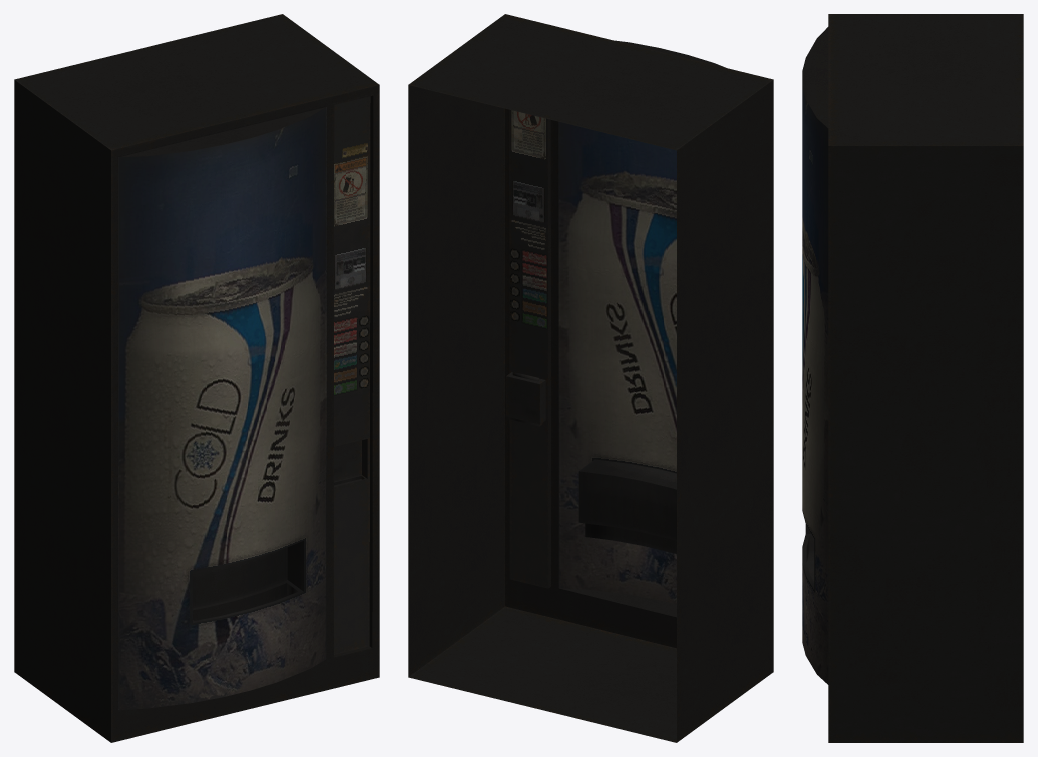
Rendered from vending_machine_1.glb.
3 views of the same model, side by side, from view 1: azimuth 30°, elevation 25°; view 2: azimuth 150°, elevation 25°; view 3: azimuth 270°, elevation 25° (orthographic).
Parts seen in each view (by area): view 1: vending_machine_1; view 2: vending_machine_1; view 3: vending_machine_1.
Part boxes in pixels (x1,y1,x2,y2): vending_machine_1: (14, 14, 379, 742); vending_machine_1: (408, 14, 773, 742); vending_machine_1: (802, 14, 1023, 742).
Bounding box in the file's own units: 0.952 × 2.01 × 0.6751.
1 material, 1 textured.
